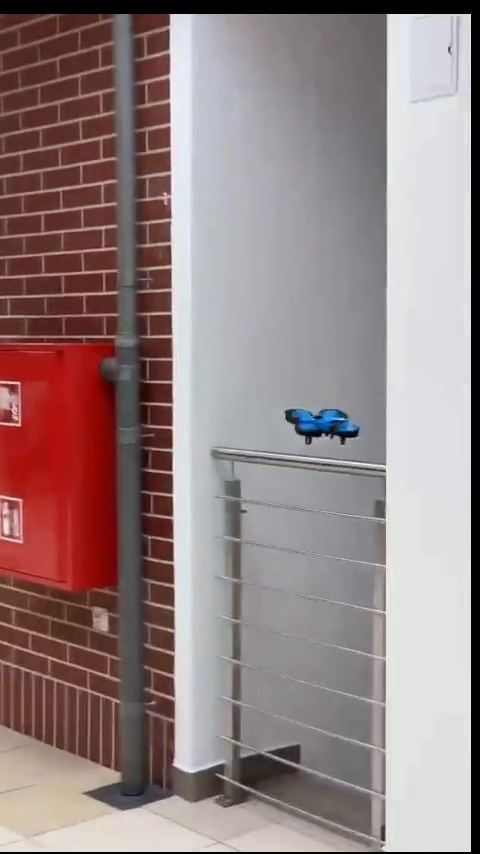drone: (286, 405, 366, 446)
